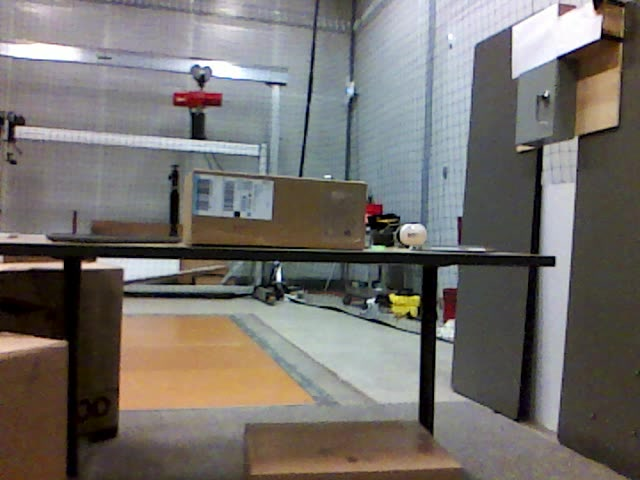box: (1, 262, 121, 441), (184, 170, 368, 248), (242, 424, 465, 480), (1, 331, 67, 480)
